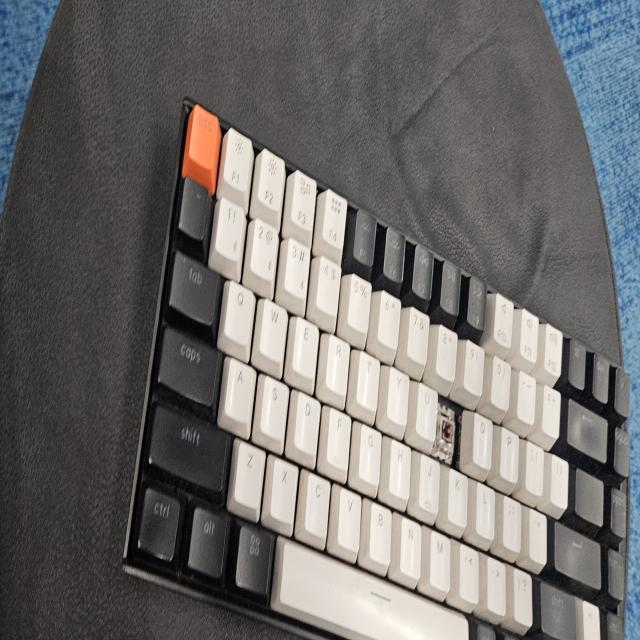C: (440, 401, 455, 457)
